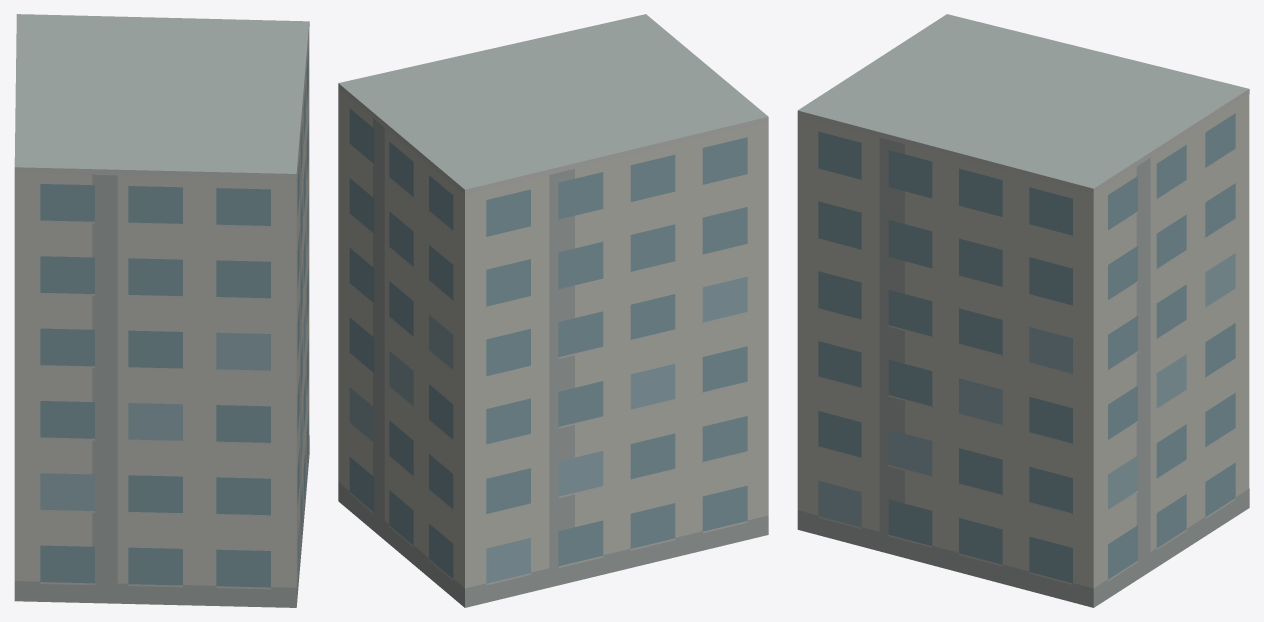
Rendered from survey-upis-32950304.glb.
3 renders of one model, left to right at view 1: azimuth 30°, elevation 25°; view 2: azimuth 150°, elevation 25°; view 3: azimuth 270°, elevation 25°, orthographic. The views are drawn at different scales.
Parts seen in each view (by area): view 1: survey-upis-32950304.tmp; view 2: survey-upis-32950304.tmp; view 3: survey-upis-32950304.tmp.
Boxes of the visible parts, x1,y1,x2,y2 form: survey-upis-32950304.tmp: [14, 14, 309, 607]; survey-upis-32950304.tmp: [338, 14, 768, 607]; survey-upis-32950304.tmp: [797, 14, 1249, 607].
Bounding box in the file's own units: 16.72 × 18.7 × 18.28.
